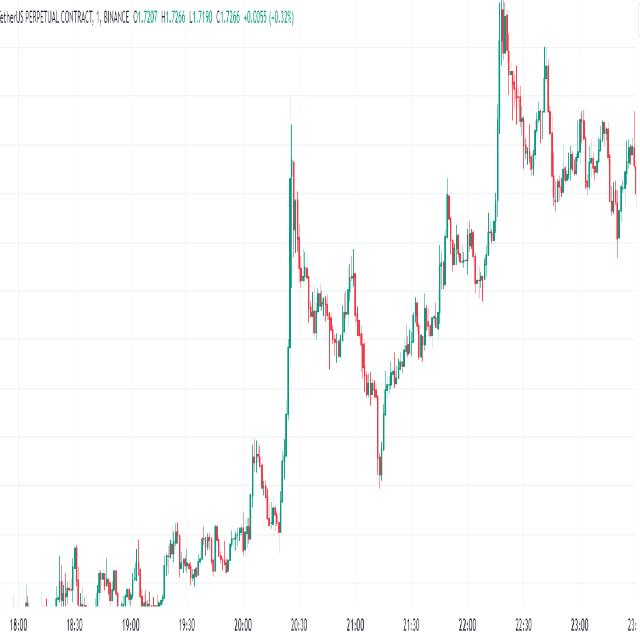Inverse-Head-Shoulders: (350, 266, 419, 491)
